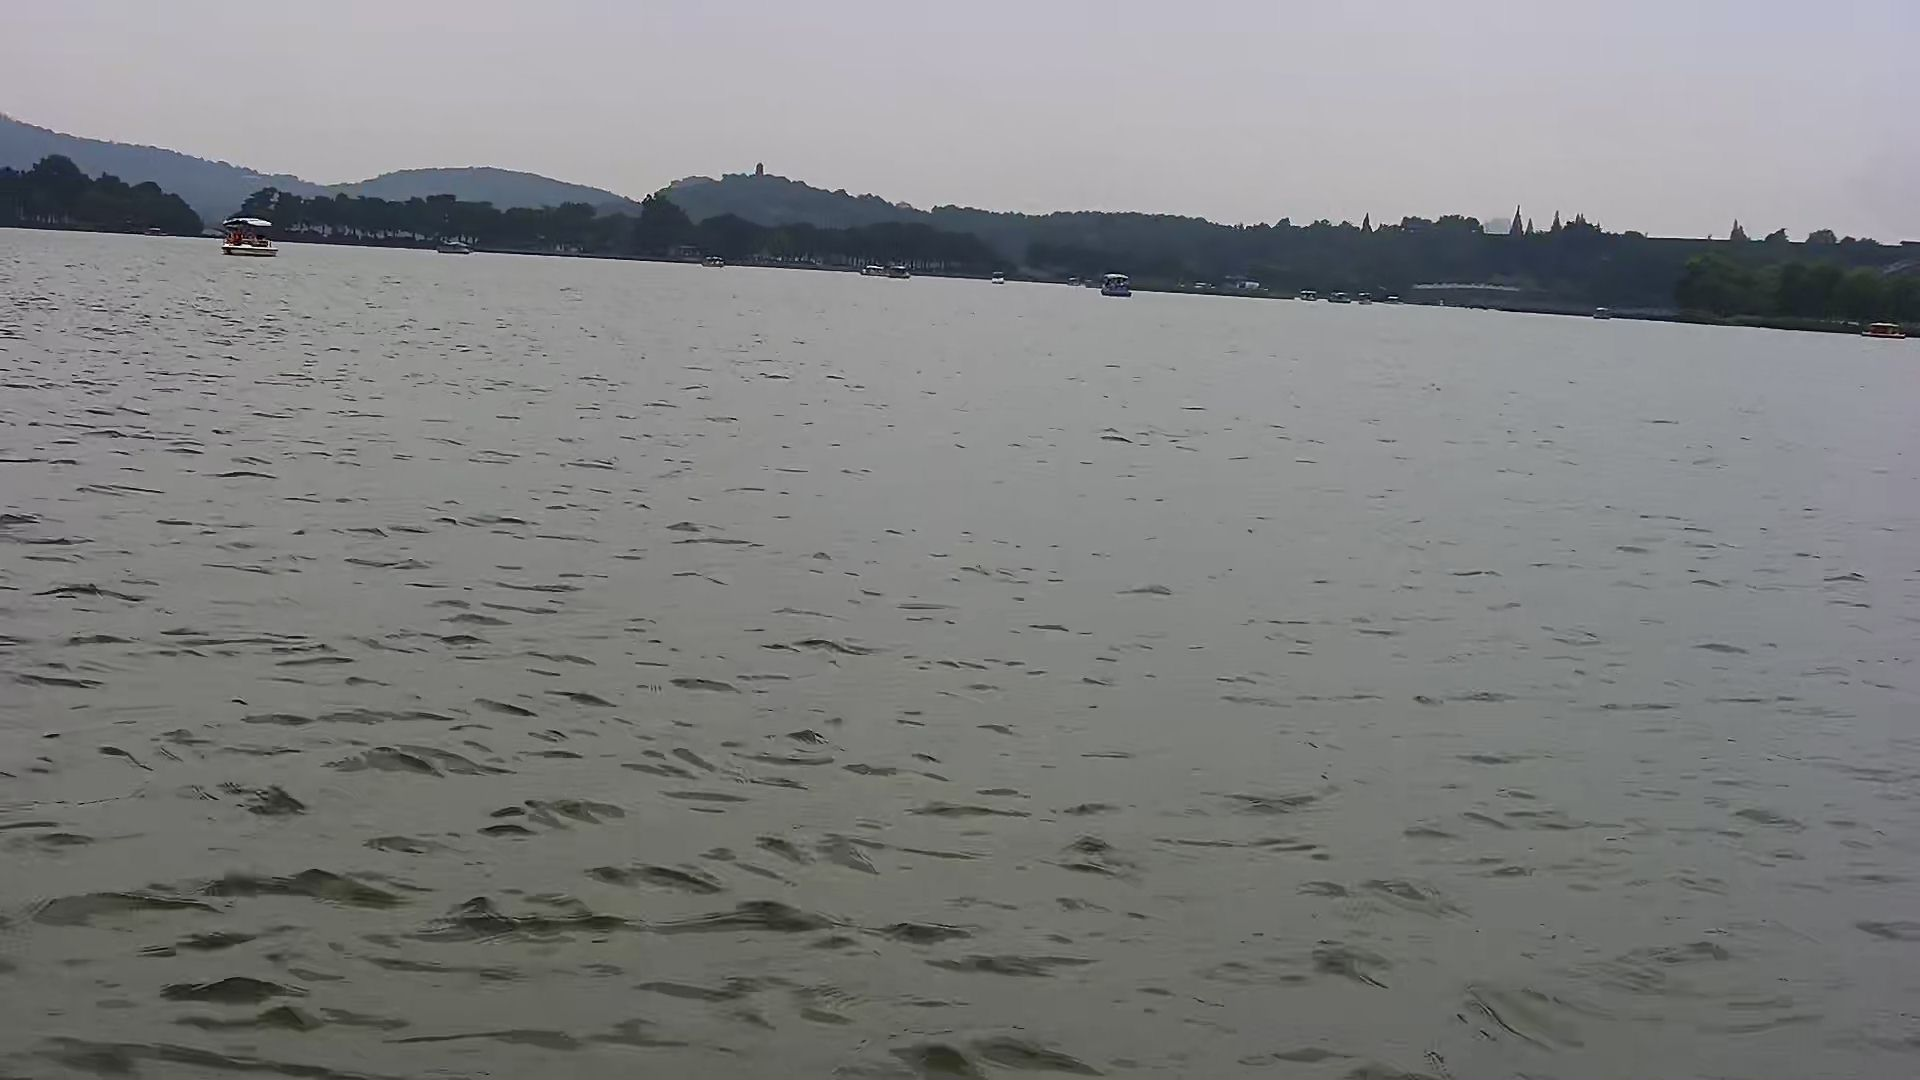boat: (215, 215, 278, 258), (1098, 272, 1138, 299)
